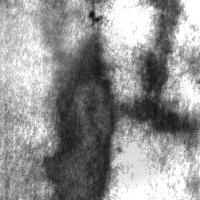patches: (52, 46, 198, 192), (42, 32, 121, 199), (125, 1, 199, 133), (0, 3, 89, 111), (63, 0, 133, 70)
